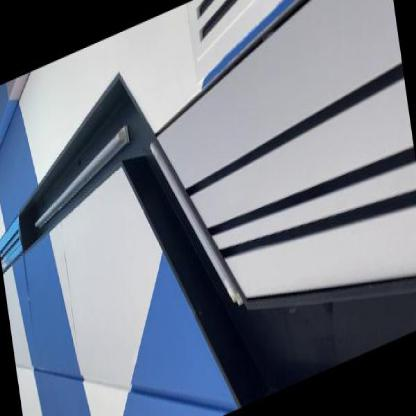light_off: (142, 67, 253, 351), (20, 103, 141, 247)
